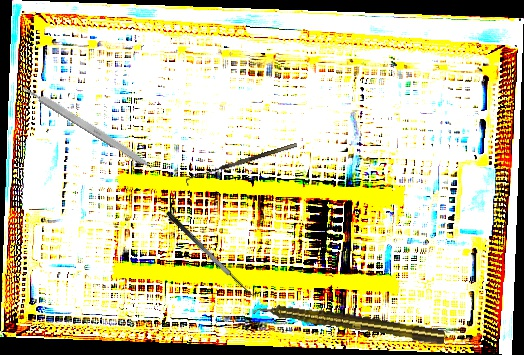Handpiece: (252, 298, 446, 347)
Hook Surgical: (184, 142, 300, 187)
Scalpel Handle: (19, 81, 156, 171)
Spatula Surgical: (165, 203, 262, 303)
